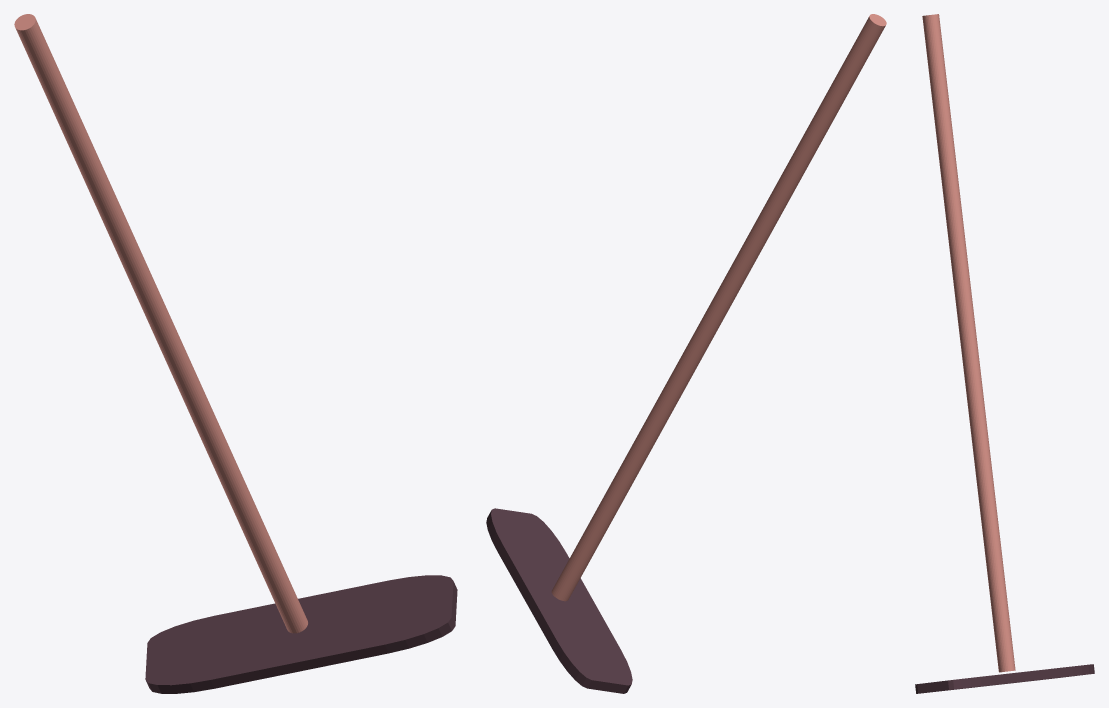
File: Broom.fbx
The picture shows the model from 3 angles, left to right: view 1: azimuth 30°, elevation 25°; view 2: azimuth 150°, elevation 25°; view 3: azimuth 270°, elevation 25°; orthographic projection. The views are drawn at different scales.
Visible parts, largest first — view 1: Cube, Broom; view 2: Broom, Cube; view 3: Broom, Cube.
Boxes of the visible parts, left/top/right/bottom form: Cube: left=145, top=575, right=457, bottom=693; Broom: left=14, top=14, right=307, bottom=633; Broom: left=551, top=14, right=886, bottom=601; Cube: left=486, top=508, right=632, bottom=693; Broom: left=922, top=14, right=1015, bottom=672; Cube: left=915, top=664, right=1094, bottom=693.
Bounding box in the file's own units: 5984 × 13055 × 21642.
